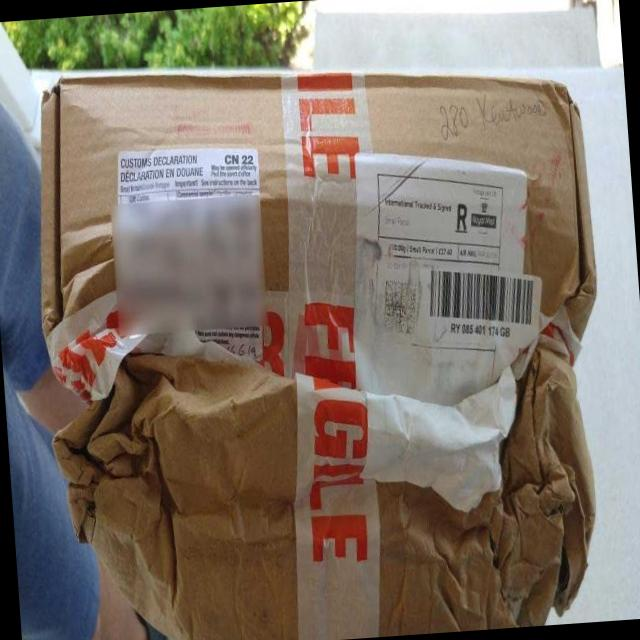box: (1, 48, 640, 592)
normal_hole: (85, 167, 131, 221)
